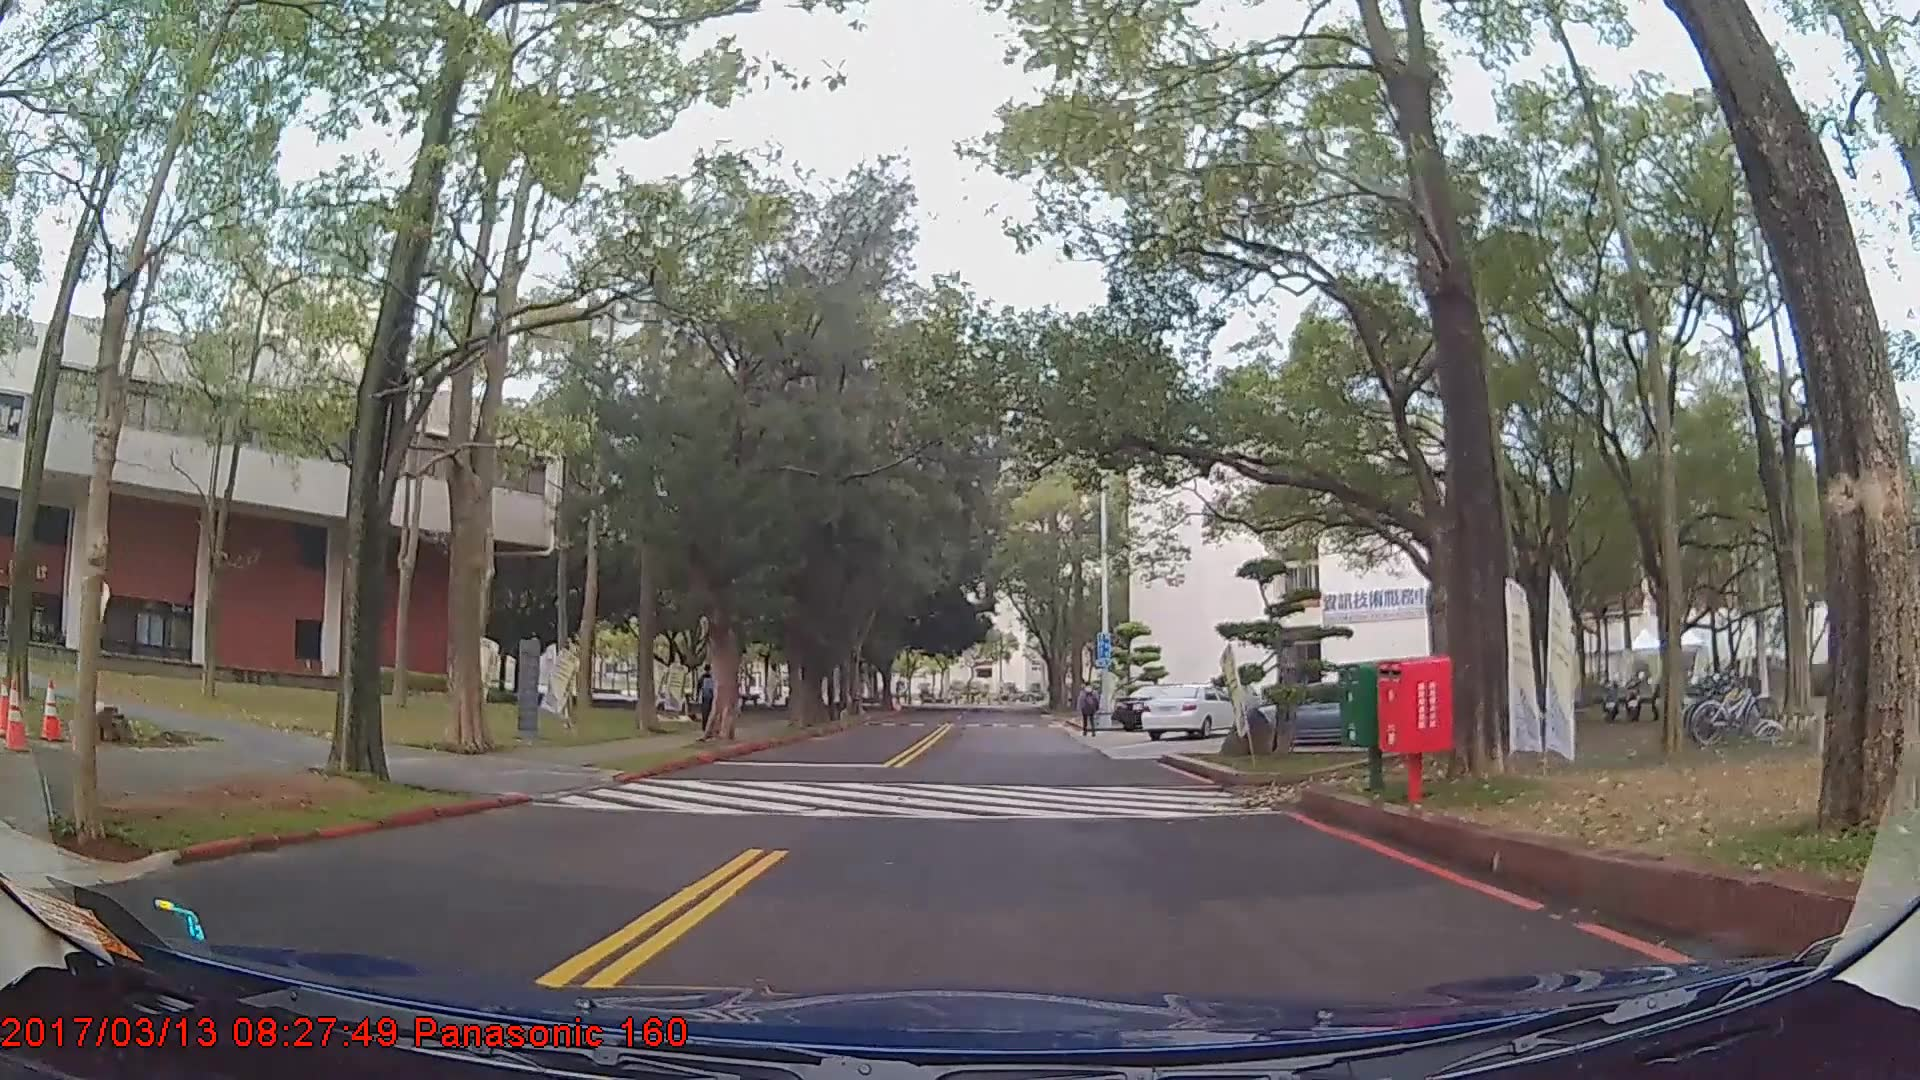pedestrian: (697, 669, 726, 740), (1077, 681, 1103, 739)
vehicle: (1145, 680, 1246, 736)
